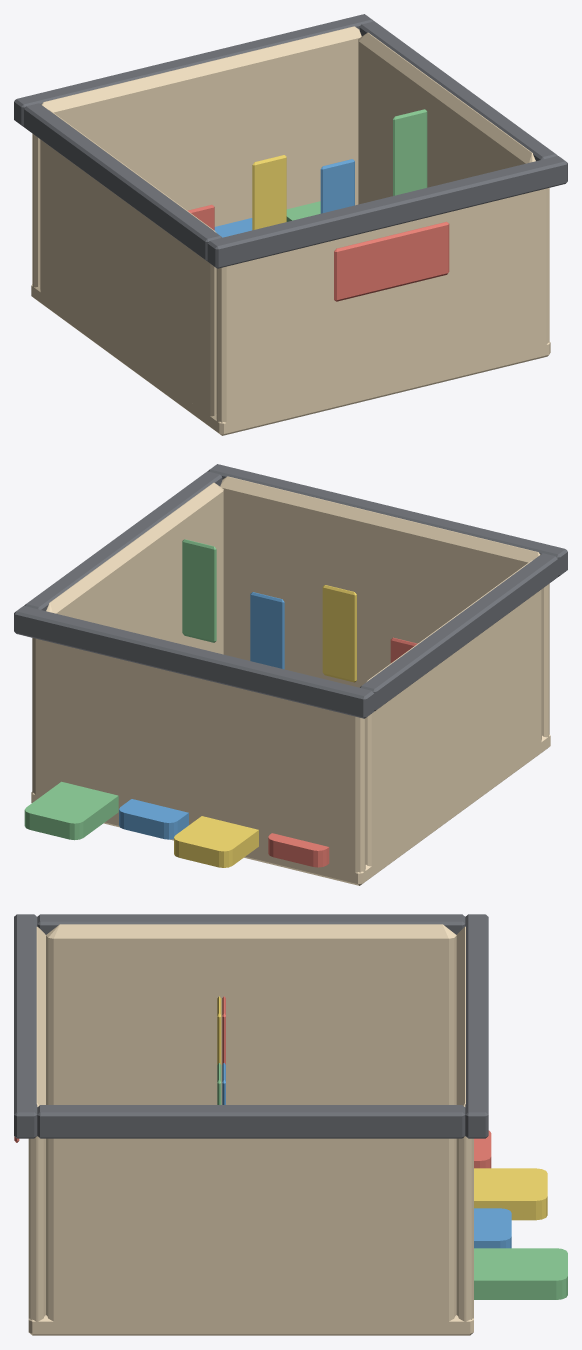
File: nursery-and-primary-classroom-book-basket-f6c8e118__35010.glb
The picture shows the model from 3 angles, top to bottom: view 1: azimuth 30°, elevation 25°; view 2: azimuth 150°, elevation 25°; view 3: azimuth 270°, elevation 25°; orthographic projection. The views are drawn at different scales.
Parts seen in each view (by area): view 1: book-basket; view 2: book-basket; view 3: book-basket.
Boxes of the visible parts, <box> form: book-basket: <box>14,14,567,435</box>; book-basket: <box>14,464,567,885</box>; book-basket: <box>14,914,567,1335</box>.
Size of the model in its own units: 0.49 by 0.2639 by 0.572.
